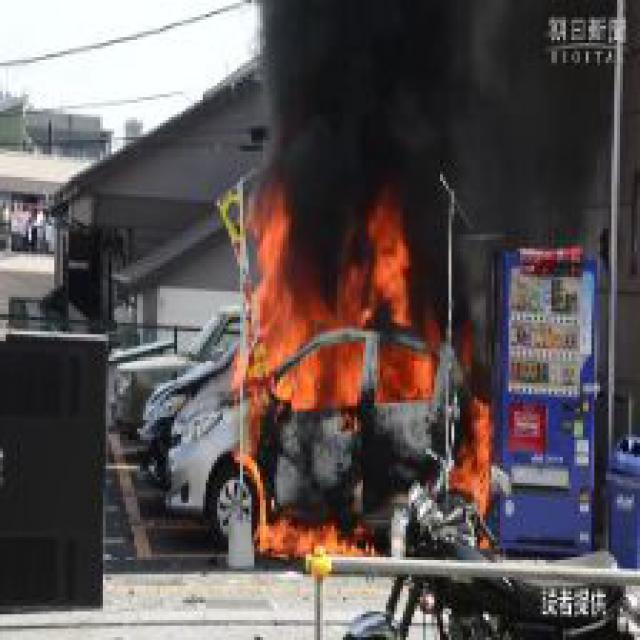fire: (237, 180, 497, 557)
